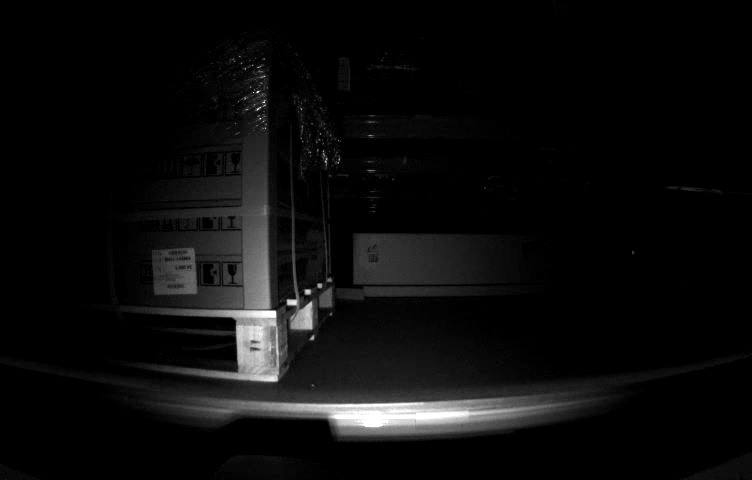True Barcode: (150, 248, 200, 297)
